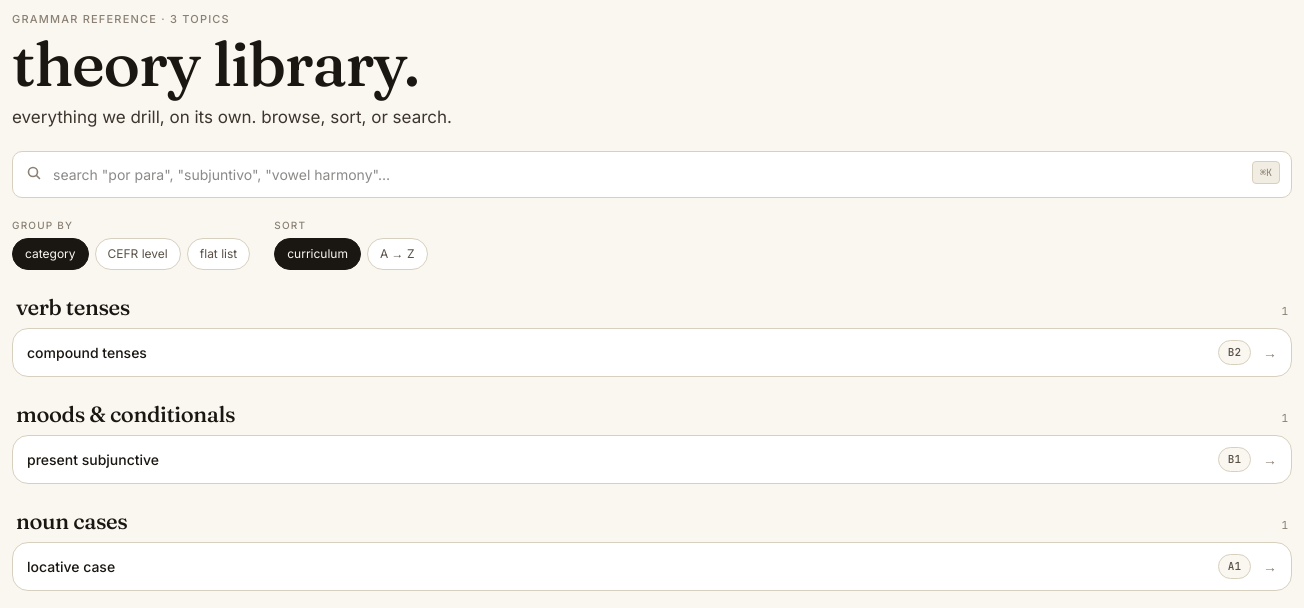
Test case: TheoryLibraryPage › collapses to a single "all topics" group when group-by is flat list
Click the button "flat list" at (219, 254), box [187,238,250,270]
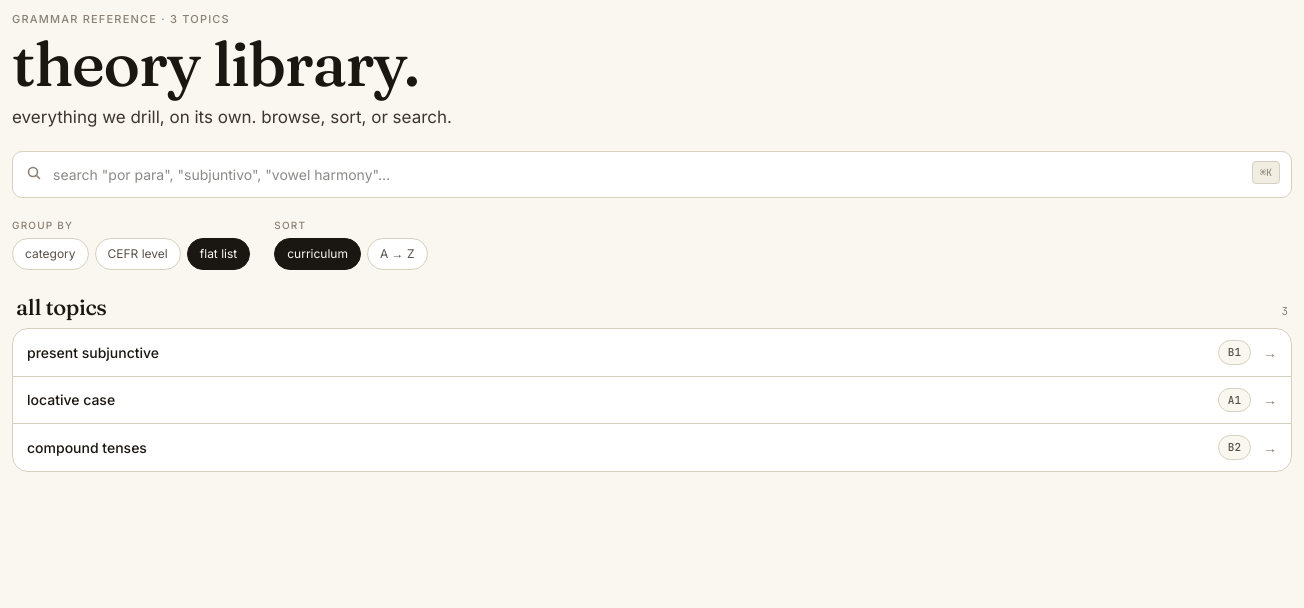
Expected: the headings read "all topics", in this order, [16,294,106,320]
